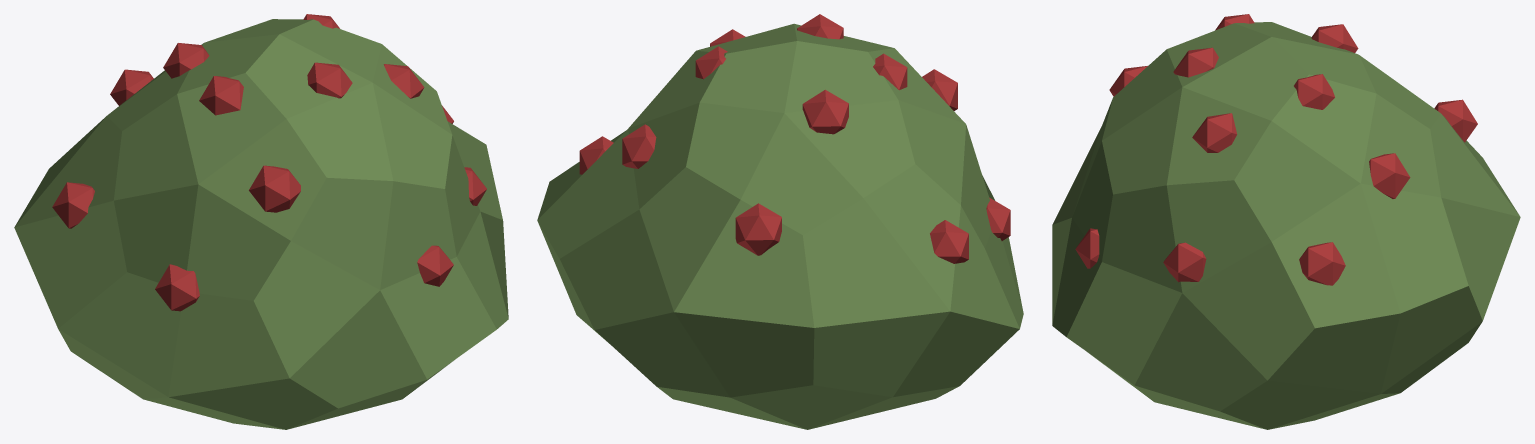
The model's file is BerryBush.fbx.
3 views of the same model, side by side, from view 1: azimuth 30°, elevation 25°; view 2: azimuth 150°, elevation 25°; view 3: azimuth 270°, elevation 25° (orthographic).
Parts seen in each view (by area): view 1: pPlatonic1, pPlatonic4, pPlatonic12, pPlatonic3, pPlatonic6, pPlatonic2, pPlatonic10, pPlatonic13, pPlatonic5, pPlatonic9, pPlatonic11; view 2: pPlatonic1, pPlatonic5, pPlatonic10, pPlatonic6, pPlatonic14, pPlatonic3, pPlatonic4, pPlatonic12, pPlatonic2, pPlatonic7, pPlatonic8; view 3: pPlatonic1, pPlatonic7, pPlatonic14, pPlatonic9, pPlatonic11, pPlatonic8, pPlatonic5, pPlatonic2, pPlatonic10, pPlatonic13, pPlatonic4.
Part boxes in pixels (x1=…): pPlatonic1: x1=14, y1=19, x2=508, y2=429; pPlatonic4: x1=249, y1=165, x2=300, y2=212; pPlatonic12: x1=155, y1=264, x2=199, y2=311; pPlatonic3: x1=199, y1=76, x2=243, y2=115; pPlatonic6: x1=52, y1=182, x2=94, y2=228; pPlatonic2: x1=307, y1=62, x2=352, y2=98; pPlatonic10: x1=163, y1=43, x2=209, y2=78; pPlatonic13: x1=417, y1=245, x2=453, y2=286; pPlatonic5: x1=110, y1=69, x2=153, y2=105; pPlatonic9: x1=384, y1=64, x2=424, y2=98; pPlatonic11: x1=464, y1=167, x2=486, y2=205; pPlatonic1: x1=537, y1=23, x2=1023, y2=429; pPlatonic5: x1=735, y1=203, x2=781, y2=255; pPlatonic10: x1=802, y1=89, x2=848, y2=134; pPlatonic6: x1=930, y1=220, x2=968, y2=263; pPlatonic14: x1=622, y1=124, x2=656, y2=168; pPlatonic3: x1=873, y1=53, x2=907, y2=90; pPlatonic4: x1=922, y1=69, x2=957, y2=110; pPlatonic12: x1=986, y1=197, x2=1010, y2=240; pPlatonic2: x1=797, y1=14, x2=843, y2=39; pPlatonic7: x1=579, y1=136, x2=613, y2=174; pPlatonic8: x1=695, y1=46, x2=727, y2=79; pPlatonic1: x1=1052, y1=22, x2=1520, y2=429; pPlatonic7: x1=1299, y1=242, x2=1345, y2=285; pPlatonic14: x1=1369, y1=153, x2=1410, y2=198; pPlatonic9: x1=1192, y1=113, x2=1237, y2=152; pPlatonic11: x1=1163, y1=242, x2=1206, y2=282; pPlatonic8: x1=1294, y1=74, x2=1334, y2=109; pPlatonic5: x1=1434, y1=99, x2=1477, y2=142; pPlatonic2: x1=1173, y1=47, x2=1218, y2=77; pPlatonic10: x1=1311, y1=24, x2=1358, y2=52; pPlatonic13: x1=1075, y1=228, x2=1099, y2=268; pPlatonic4: x1=1109, y1=66, x2=1147, y2=96.
Size of the model in its own units: 2.6 by 2.02 by 2.35.
